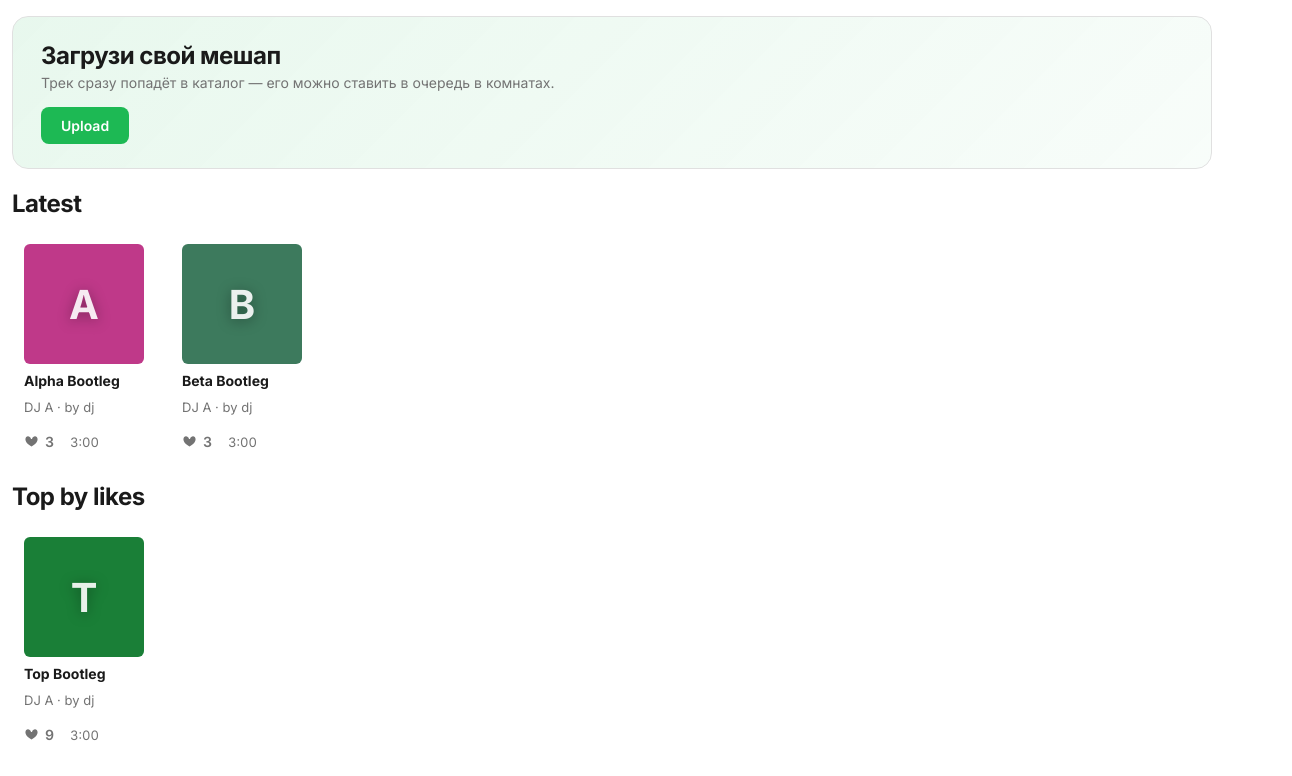
Scenario: Mashups page › toggles a like optimistically and settles on the server count
The image size is (1292, 776).
Click the button named "Like Top Bootleg": [39, 734] box [16, 722, 62, 747]
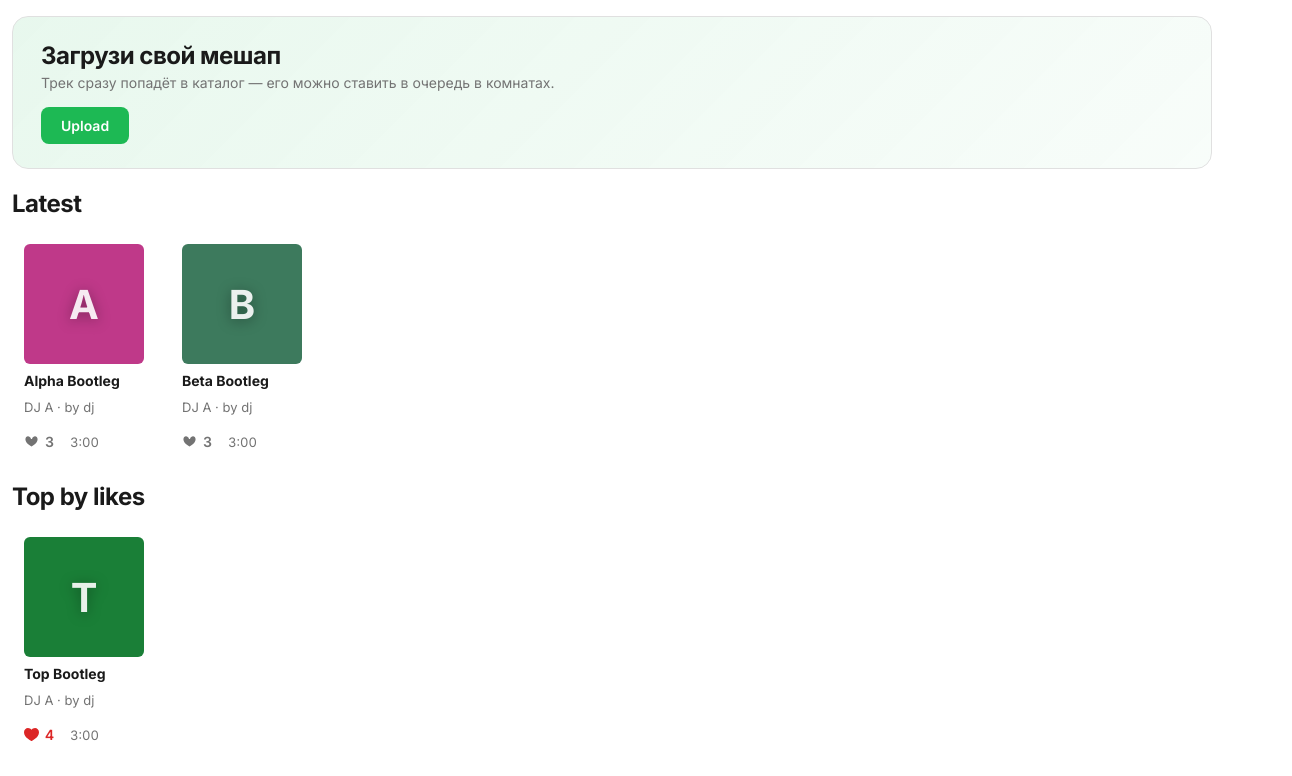
Check: the button named "Unlike Top Bootleg" is shown, box [16, 722, 62, 747]
